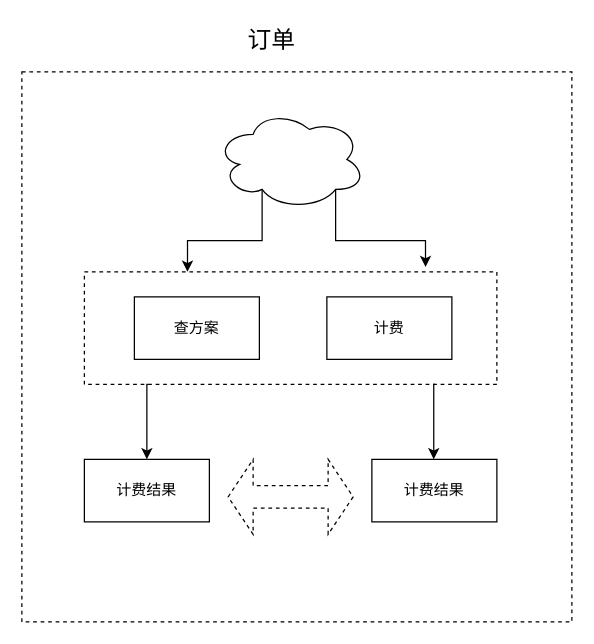
The diagram is 594 pixels wide and 644 high, and some of its shapes have lost their labels. Each missing label, with the centre of its shape:
"参数" belongs at pixel 290 158.
"是否一致" belongs at pixel 290 496.
